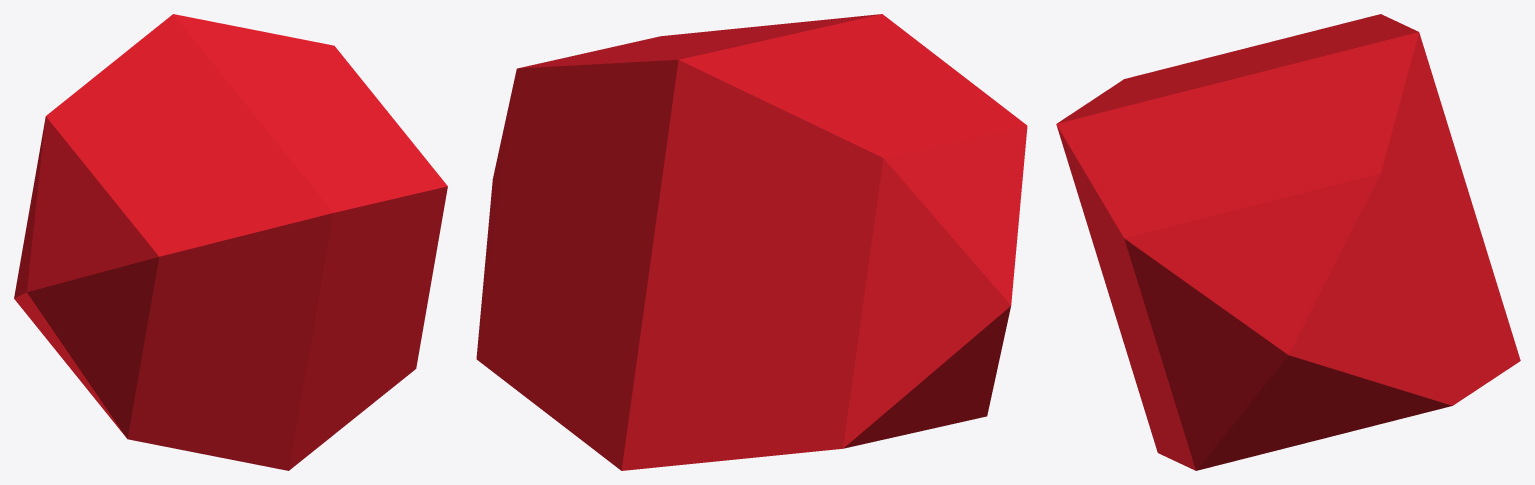
File: Fruit_Red_Apple.fbx
The picture shows the model from 3 angles, left to right: view 1: azimuth 30°, elevation 25°; view 2: azimuth 150°, elevation 25°; view 3: azimuth 270°, elevation 25°; orthographic projection. The views are drawn at different scales.
Visible parts, largest first — view 1: Sphere.007; view 2: Sphere.007; view 3: Sphere.007.
Part boxes in pixels (<box>): Sphere.007: <box>14,14,447,470</box>; Sphere.007: <box>476,14,1027,470</box>; Sphere.007: <box>1056,14,1520,470</box>.
Size of the model in its own units: 13.52 by 11.79 by 11.79.
